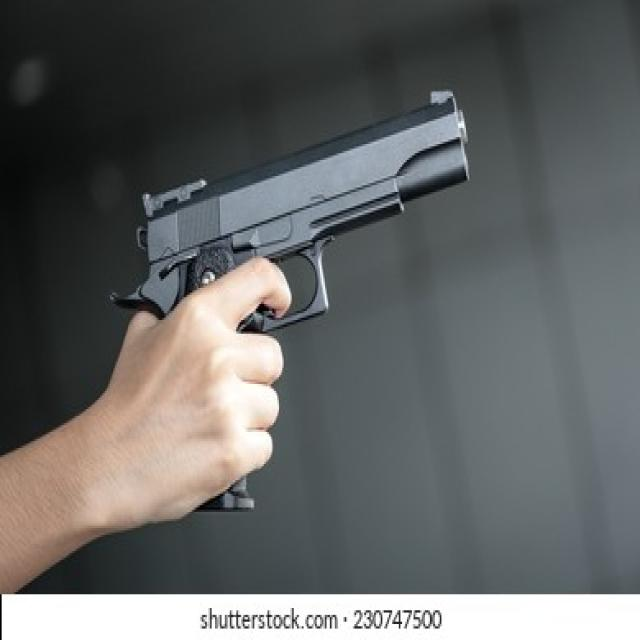HandGun: (112, 91, 471, 334)
